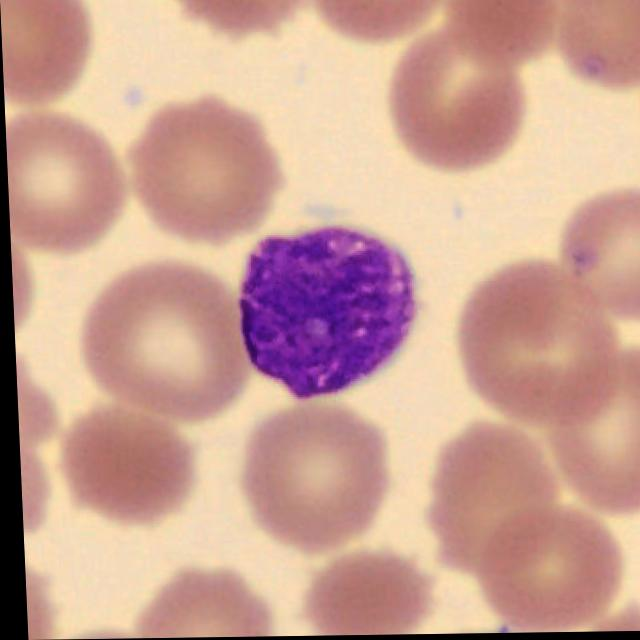Linfocito: (234, 226, 415, 400)
